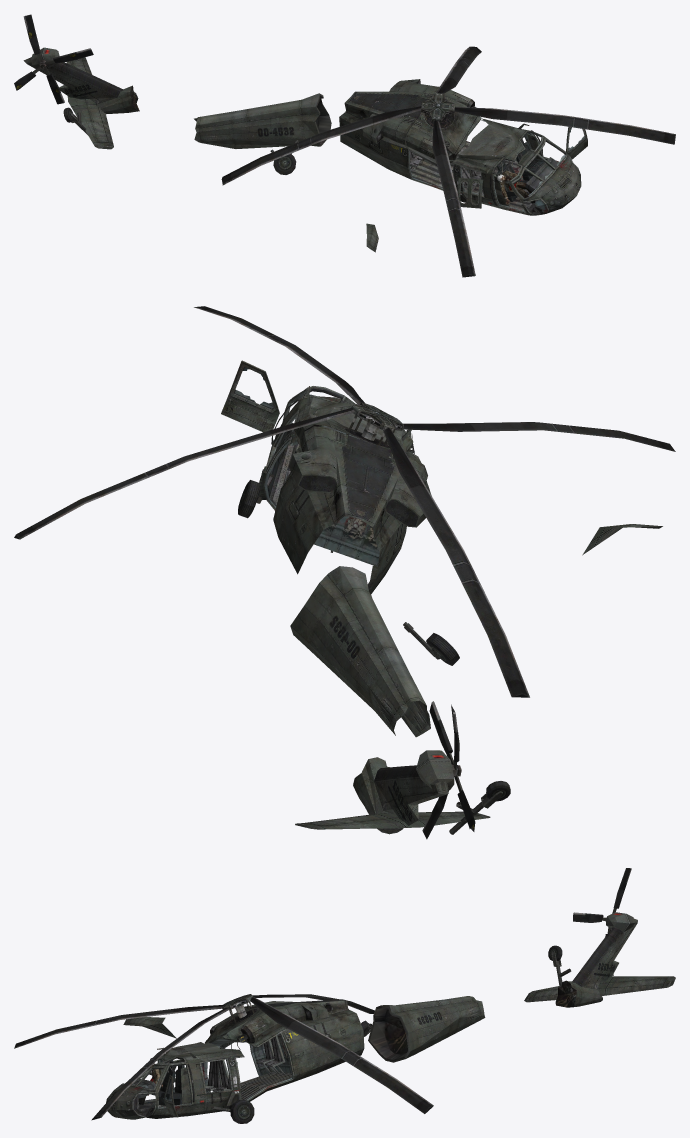
The model's file is HelicopterCrashed.fbx.
The picture shows the model from 3 angles, top to bottom: view 1: azimuth 30°, elevation 25°; view 2: azimuth 150°, elevation 25°; view 3: azimuth 270°, elevation 25°; orthographic projection. The views are drawn at different scales.
Parts seen in each view (by area): view 1: Object001; view 2: Object001; view 3: Object001.
Part boxes in pixels (x1,y1,x2,y2): Object001: (14, 14, 675, 277); Object001: (14, 306, 675, 839); Object001: (14, 868, 675, 1123).
Bounding box in the file's own units: 524 × 130 × 675.
